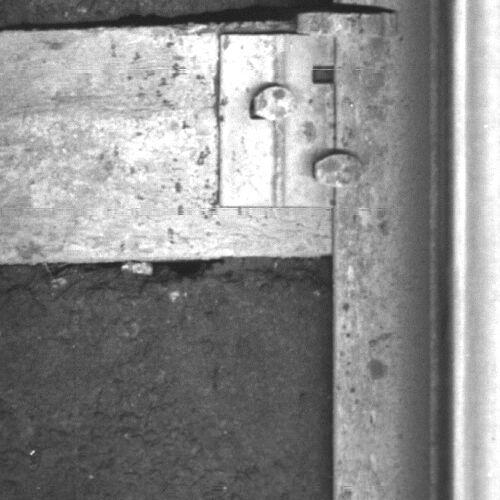crutch: (297, 10, 400, 36)
do: (218, 33, 362, 207)
hole_do: (306, 58, 348, 90)
rail: (449, 1, 500, 500)
tie_wood: (1, 29, 333, 260)
